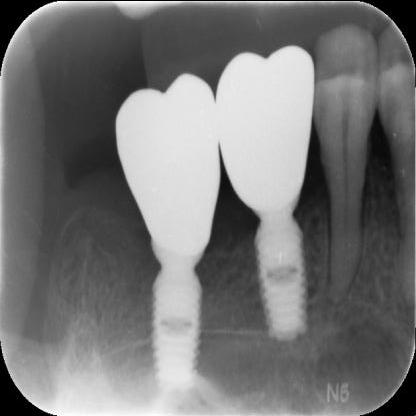Bicon: (148, 252, 212, 402), (250, 218, 312, 348)
